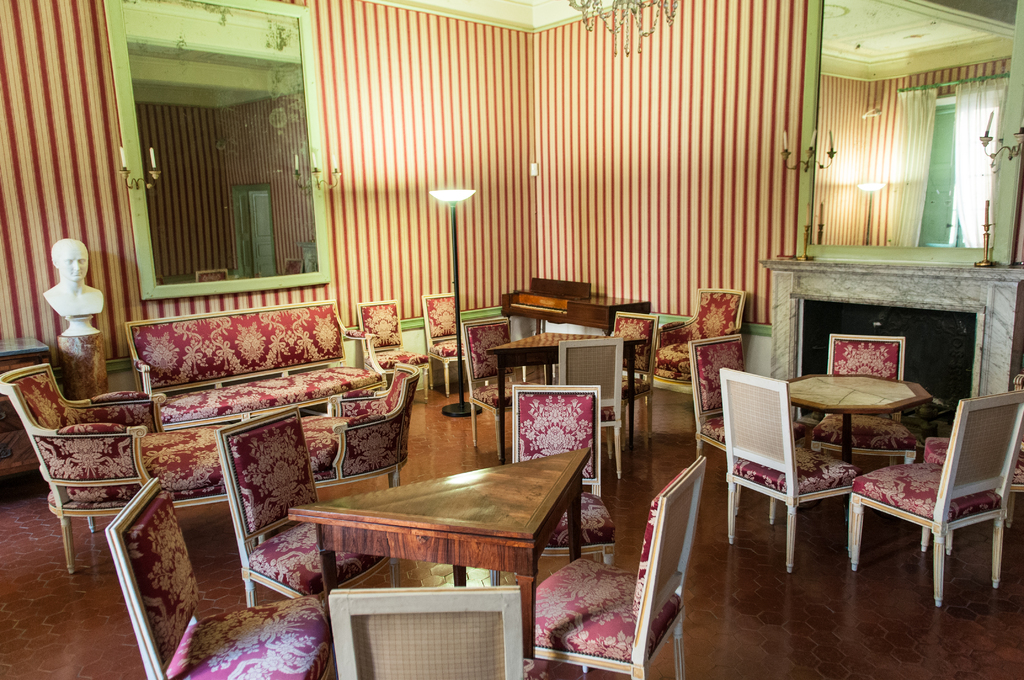Chair: (104, 476, 338, 679), (216, 408, 404, 618), (531, 453, 696, 679), (717, 366, 860, 571), (495, 382, 621, 592), (690, 334, 809, 514), (330, 583, 531, 679), (918, 376, 1023, 553), (806, 332, 922, 467), (458, 316, 548, 465), (649, 287, 744, 398), (557, 339, 621, 482), (359, 298, 426, 405), (424, 291, 490, 399), (619, 304, 652, 440)
